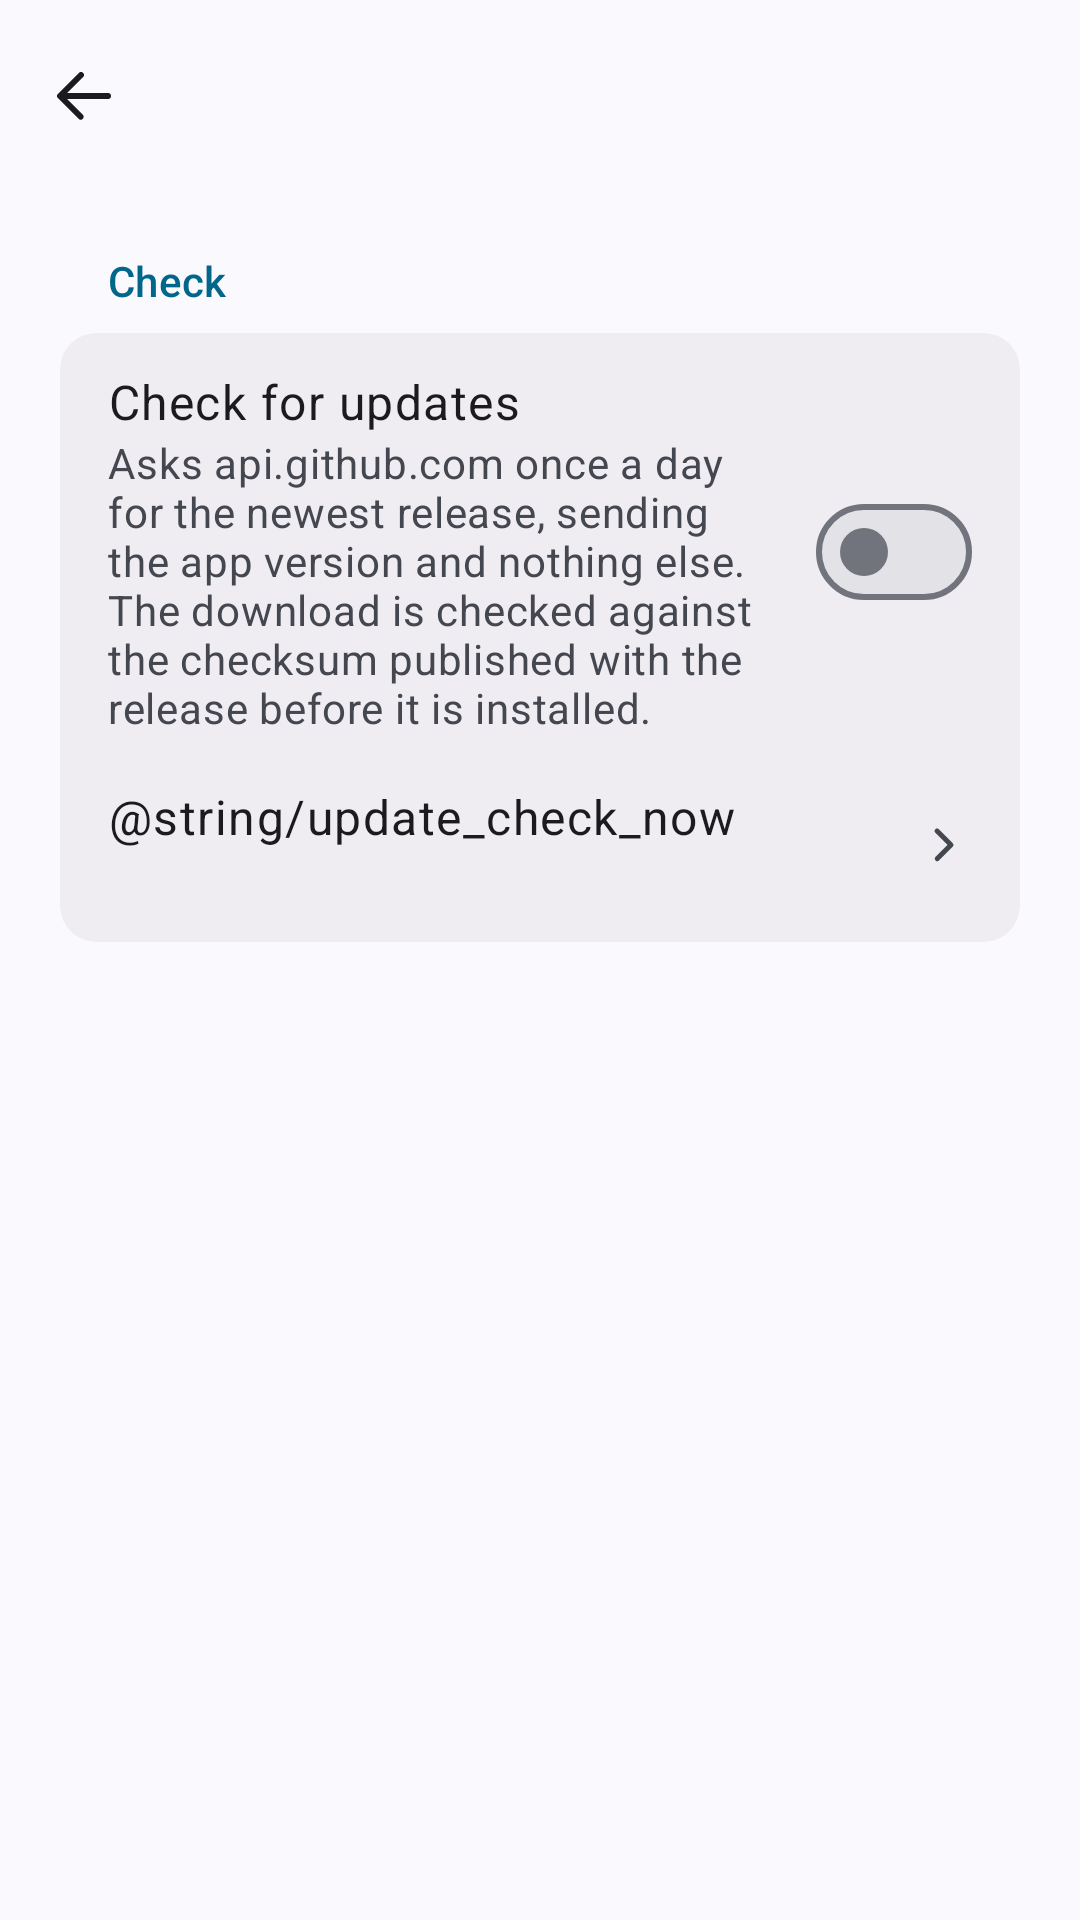

Icons on this 1080*1920 Android screen, each with the point to tap as (x=x, y=y):
Back: (x=84, y=96)
chevron: (x=944, y=845)
